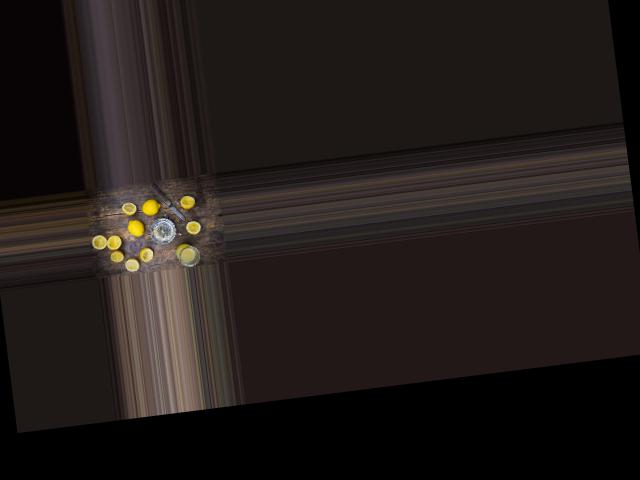lemon: (134, 199, 161, 219)
